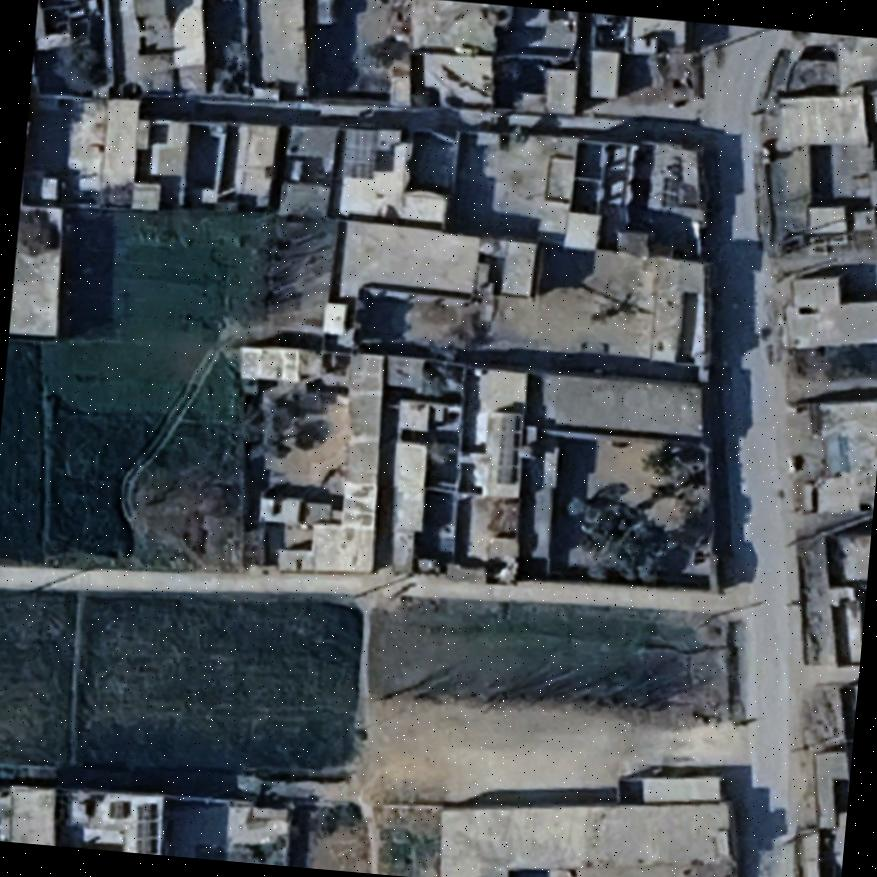Solarpanel: (486, 407, 524, 487), (340, 125, 379, 179), (130, 798, 162, 854)
